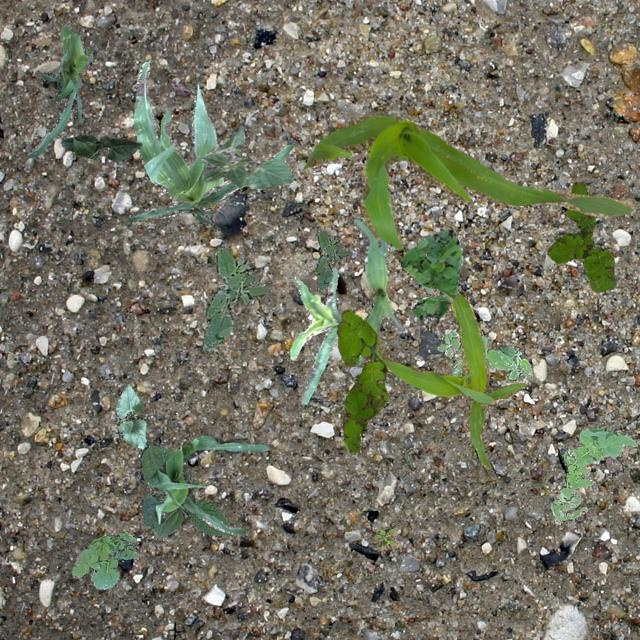crop: (304, 112, 634, 248), (127, 60, 295, 222), (372, 290, 524, 468), (147, 432, 270, 534), (140, 441, 232, 538), (28, 26, 96, 156), (352, 216, 403, 364), (290, 266, 340, 402), (200, 124, 292, 188), (114, 382, 146, 448), (60, 134, 140, 160)
weed: (550, 426, 636, 524), (200, 244, 272, 352), (546, 180, 614, 290), (336, 308, 386, 452), (400, 228, 460, 322), (436, 330, 530, 380), (70, 530, 136, 588), (316, 228, 352, 290), (372, 526, 398, 548)
